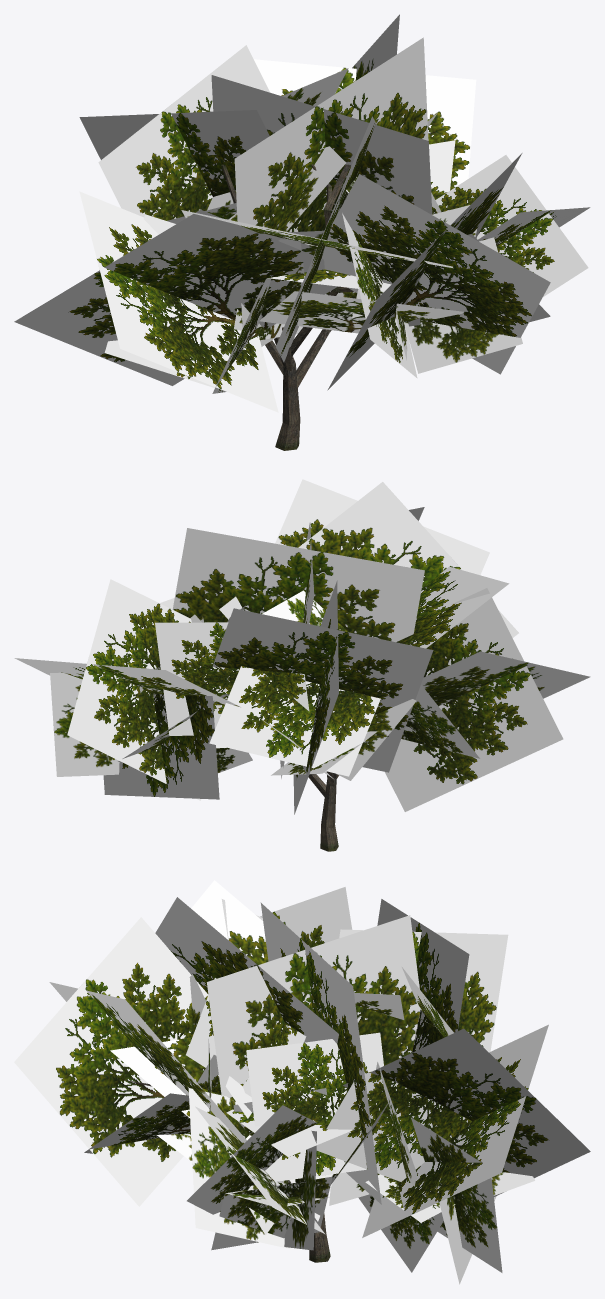
The model's file is tree_02.fbx.
The picture shows the model from 3 angles, top to bottom: view 1: azimuth 30°, elevation 25°; view 2: azimuth 150°, elevation 25°; view 3: azimuth 270°, elevation 25°; orthographic projection. The views are drawn at different scales.
Parts seen in each view (by area): view 1: PuTong_ShuYe01, PuTong_ShuGan01; view 2: PuTong_ShuYe01, PuTong_ShuGan01; view 3: PuTong_ShuYe01, PuTong_ShuGan01.
Part boxes in pixels (<box>): PuTong_ShuYe01: <box>14,14,590,412</box>; PuTong_ShuGan01: <box>221,164,353,450</box>; PuTong_ShuYe01: <box>14,479,590,814</box>; PuTong_ShuGan01: <box>308,602,338,851</box>; PuTong_ShuYe01: <box>14,880,590,1284</box>; PuTong_ShuGan01: <box>125,1080,330,1262</box>.
Bounding box in the file's own units: 19.05 × 17.7 × 12.41.
Materials: 2 (2 with a texture image).
